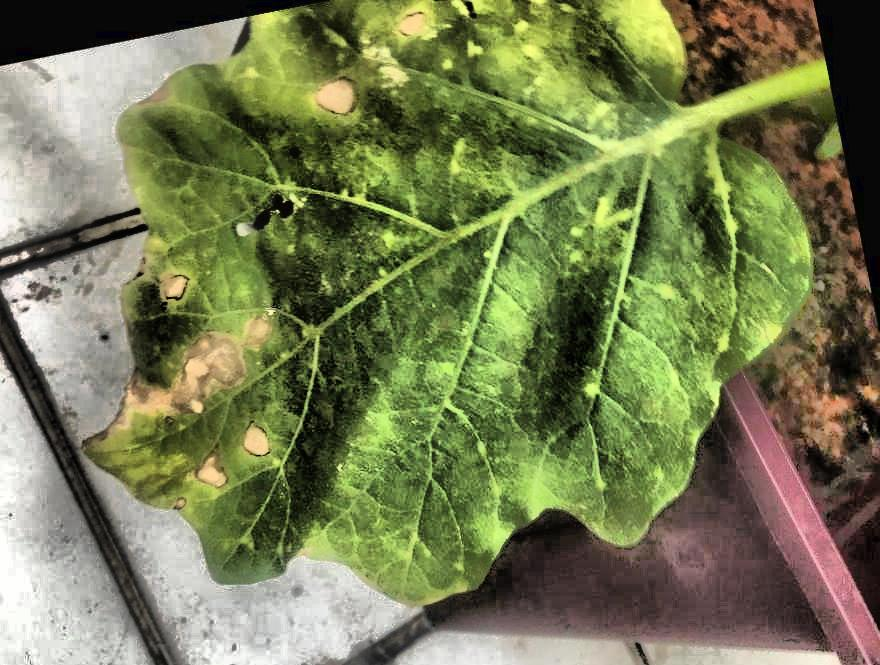Critical Stress: (1, 0, 880, 665)
